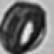correct: (0, 1, 49, 52)
